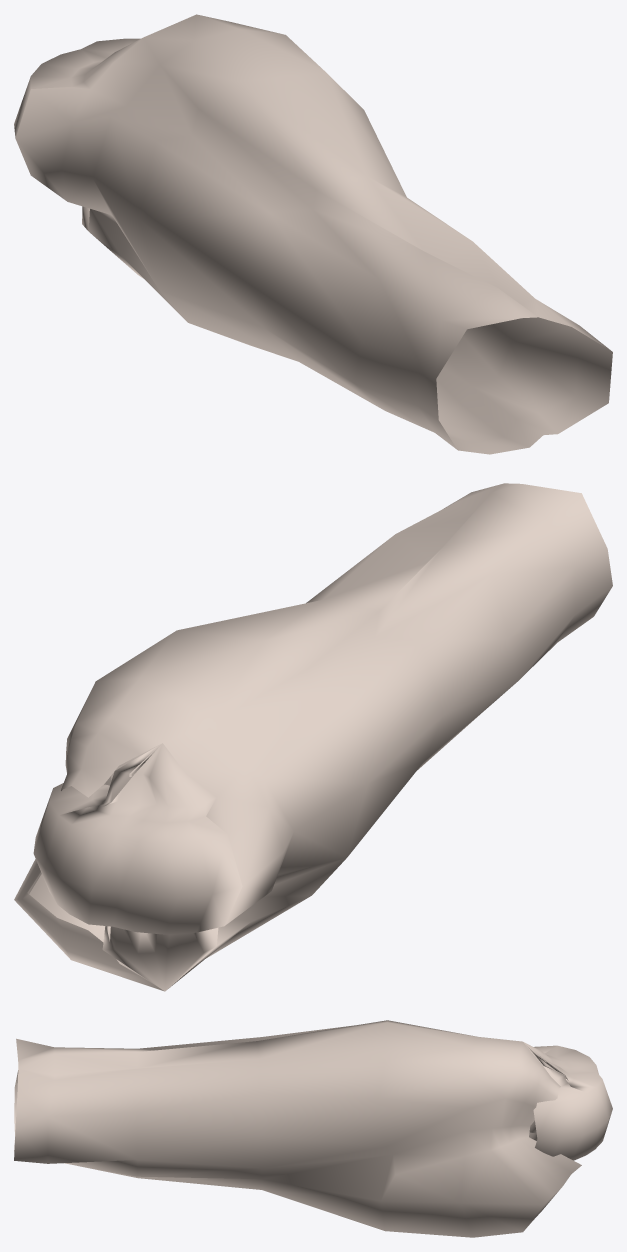
File: UpArm.R.dae
The picture shows the model from 3 angles, top to bottom: view 1: azimuth 30°, elevation 25°; view 2: azimuth 150°, elevation 25°; view 3: azimuth 270°, elevation 25°; orthographic projection. The views are drawn at different scales.
Visible parts, largest first — view 1: UpArm_R; view 2: UpArm_R; view 3: UpArm_R.
Part boxes in pixels (x1,y1,x2,y2): UpArm_R: (14, 14, 612, 454); UpArm_R: (14, 483, 612, 991); UpArm_R: (14, 1020, 612, 1237).
Size of the model in its own units: 0.0908 by 0.2908 by 0.0992.
